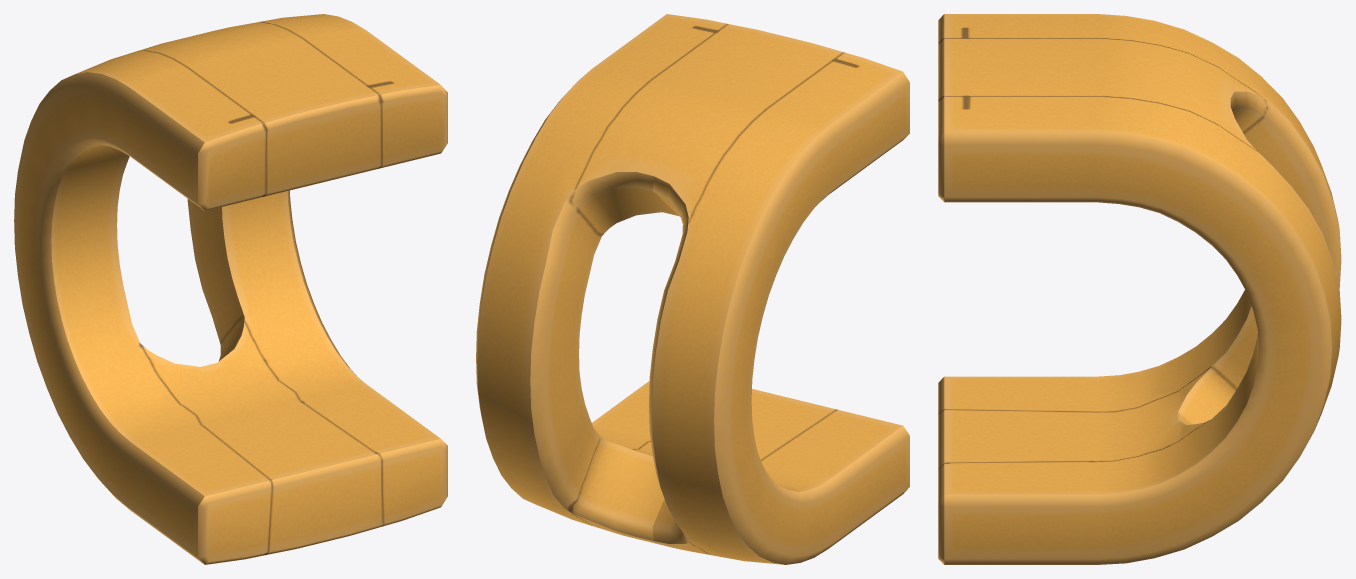
File: SM_Armour_Capsule_Lower.fbx
The picture shows the model from 3 angles, left to right: view 1: azimuth 30°, elevation 25°; view 2: azimuth 150°, elevation 25°; view 3: azimuth 270°, elevation 25°; orthographic projection. The views are drawn at different scales.
Parts seen in each view (by area): view 1: SM_Armour_Capsule_Lower; view 2: SM_Armour_Capsule_Lower; view 3: SM_Armour_Capsule_Lower.
Boxes of the visible parts, <box> form: SM_Armour_Capsule_Lower: <box>14,14,447,564</box>; SM_Armour_Capsule_Lower: <box>476,14,909,564</box>; SM_Armour_Capsule_Lower: <box>938,14,1341,564</box>.
Bounding box in the file's own units: 34.18 × 56.89 × 46.6.
1 material, 1 textured.
